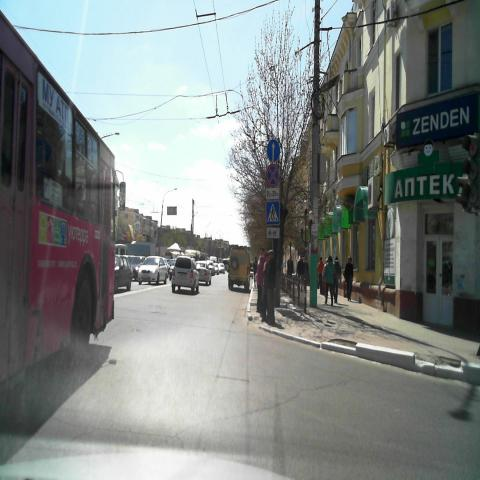8_15: (266, 226, 280, 238)
8_5_4: (266, 188, 280, 199)
